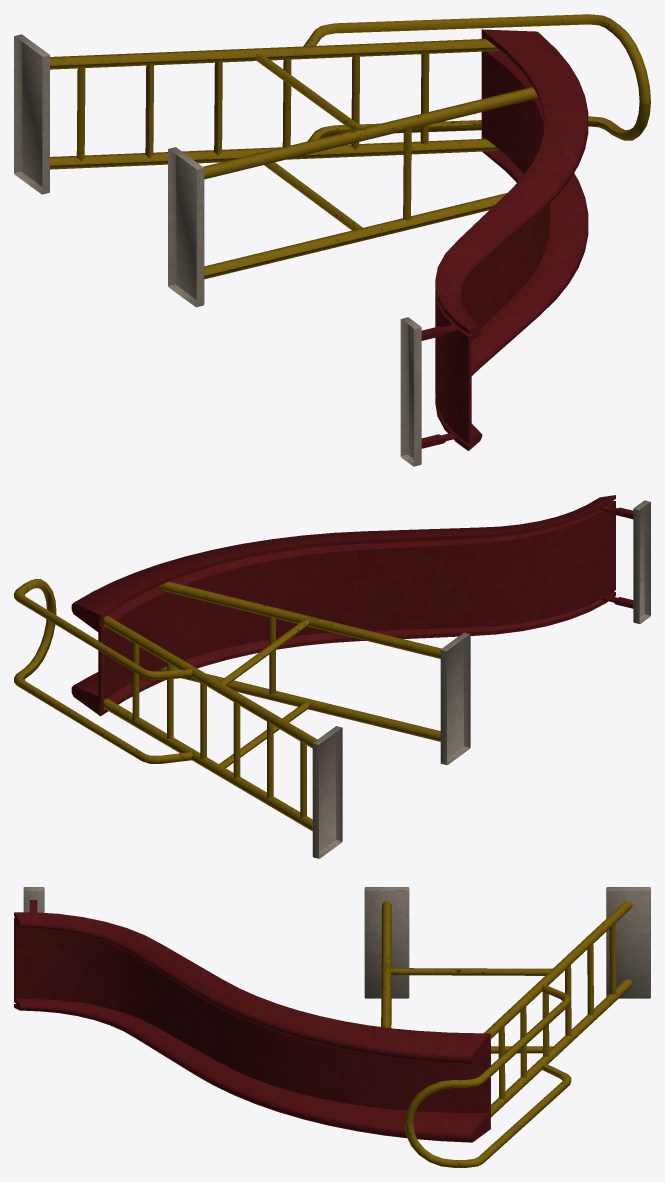
Rendered from cP_PlaygroundSlide.dae.
The picture shows the model from 3 angles, top to bottom: view 1: azimuth 30°, elevation 25°; view 2: azimuth 150°, elevation 25°; view 3: azimuth 270°, elevation 25°; orthographic projection. The views are drawn at different scales.
Parts seen in each view (by area): view 1: cP_PlaygroundSlide.001; view 2: cP_PlaygroundSlide.001; view 3: cP_PlaygroundSlide.001.
Boxes of the visible parts, x1,y1,x2,y2 form: cP_PlaygroundSlide.001: (14,14,650,466); cP_PlaygroundSlide.001: (14,495,650,858); cP_PlaygroundSlide.001: (14,887,650,1167).
Size of the model in its own units: 3.28 by 4.79 by 0.9012.
